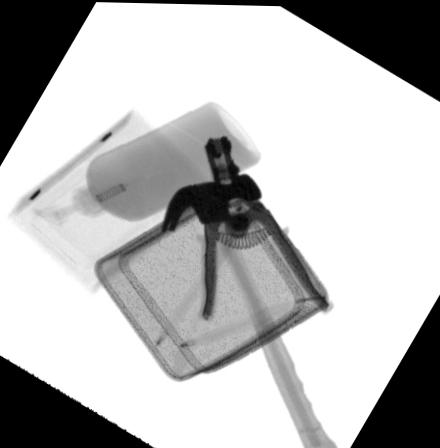Hammer: (162, 170, 338, 448)
Pliers: (193, 134, 334, 319)
